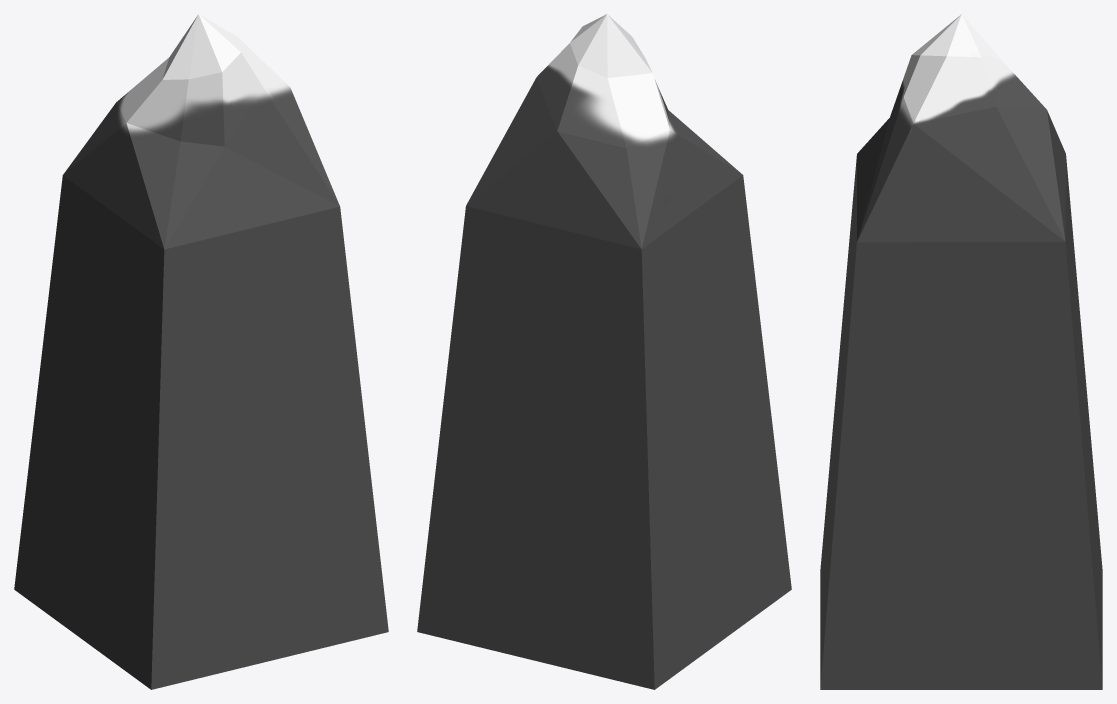
The model's file is mountain.gltf.
The picture shows the model from 3 angles, left to right: view 1: azimuth 30°, elevation 25°; view 2: azimuth 150°, elevation 25°; view 3: azimuth 270°, elevation 25°; orthographic projection. The views are drawn at different scales.
Parts seen in each view (by area): view 1: Cube; view 2: Cube; view 3: Cube.
Boxes of the visible parts, box(x1,y1,x2,y2) form: Cube: box(14, 14, 388, 689); Cube: box(417, 14, 791, 689); Cube: box(820, 14, 1102, 689).
Size of the model in its own units: 1 by 2.4 by 1.
1 material, 1 textured.
